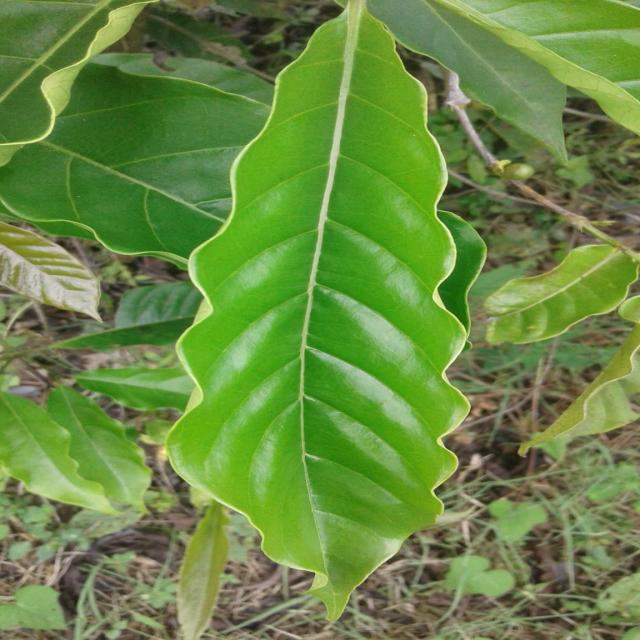Sanas: (165, 0, 488, 614)
